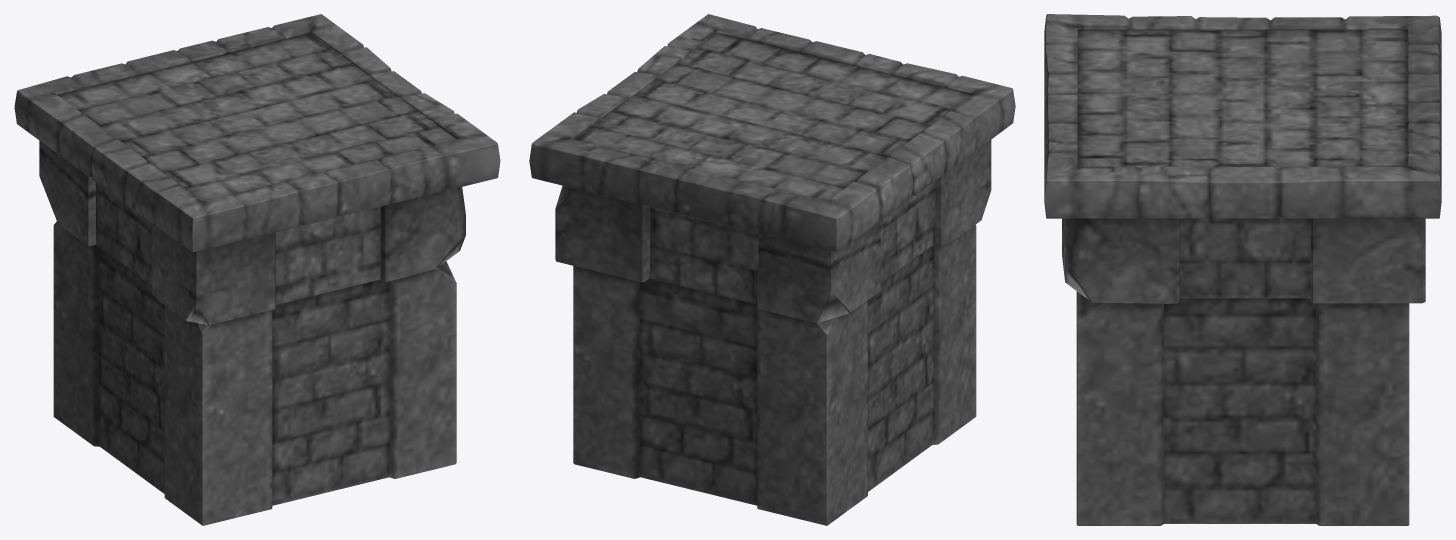
File: SM_Floor_Stone_6f0939.glb
3 renders of one model, left to right at view 1: azimuth 30°, elevation 25°; view 2: azimuth 150°, elevation 25°; view 3: azimuth 270°, elevation 25°, orthographic. The views are drawn at different scales.
Size of the model in its own units: 4.04 by 4.06 by 4.04.
Materials: 2 (2 with a texture image).
